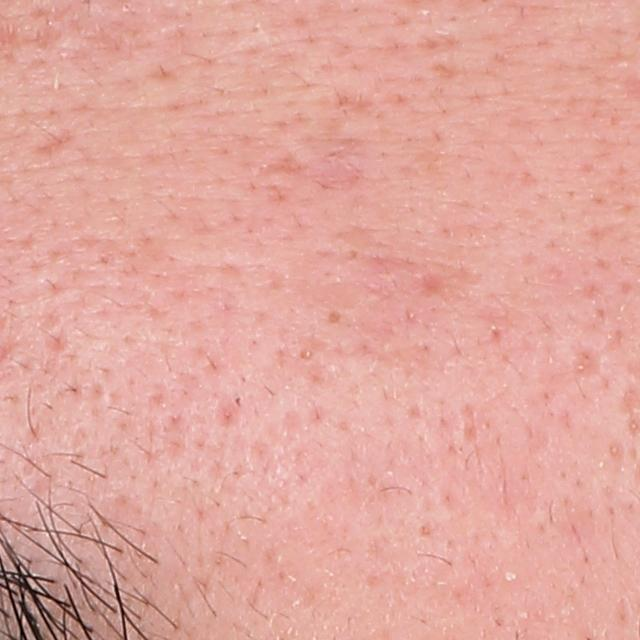atrophic_scar: (30, 123, 77, 161), (574, 346, 608, 379)
comedo: (294, 347, 316, 366), (327, 310, 343, 327)
